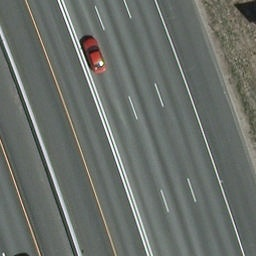car: (80, 35, 107, 74)
